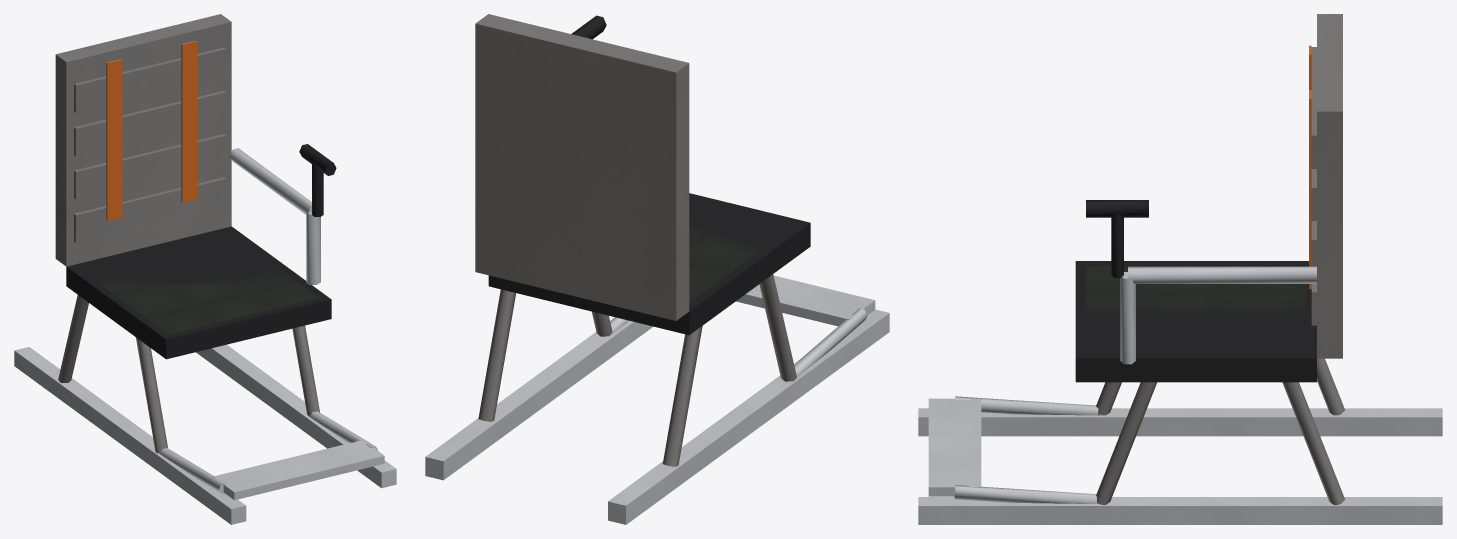
File: rover22_crew_seat.glb
3 renders of one model, left to right at view 1: azimuth 30°, elevation 25°; view 2: azimuth 150°, elevation 25°; view 3: azimuth 270°, elevation 25°, orthographic. The views are drawn at different scales.
Parts seen in each view (by area): view 1: seat_back, seat_pan, base_rails, seat_cushion, footrest, seat_back_belts, legs, armrest, hand_controller; view 2: seat_back, base_rails, seat_pan, legs, footrest, seat_cushion; view 3: base_rails, seat_pan, seat_back, footrest, seat_cushion, legs, armrest, hand_controller, seat_back_belts.
Boxes of the visible parts, x1,y1,x2,y2 form: seat_back: (55, 14, 231, 266); seat_pan: (66, 226, 331, 359); base_rails: (14, 344, 396, 524); seat_cushion: (95, 258, 318, 334); footrest: (159, 411, 384, 500); seat_back_belts: (106, 40, 197, 220); legs: (58, 295, 319, 453); armrest: (230, 148, 320, 285); hand_controller: (299, 144, 336, 216); seat_back: (475, 14, 689, 320); base_rails: (425, 309, 889, 524); seat_pan: (488, 193, 810, 335); legs: (478, 274, 796, 466); footrest: (610, 275, 875, 376); seat_cushion: (689, 211, 764, 302); base_rails: (918, 408, 1442, 524); seat_pan: (1075, 261, 1316, 382); seat_back: (1311, 14, 1342, 358); footrest: (928, 396, 1101, 504); seat_cushion: (1086, 265, 1306, 318); legs: (1096, 358, 1344, 504); armrest: (1120, 266, 1316, 364); hand_controller: (1086, 200, 1148, 277); seat_back_belts: (1309, 45, 1311, 288).
Size of the model in its own units: 0.465 by 0.87 by 1.
Materials: 5 (3 with a texture image).
